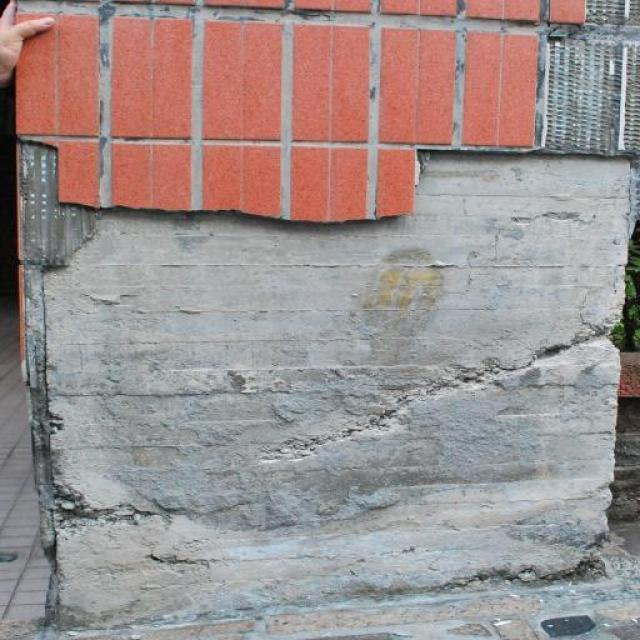D10: (19, 0, 639, 626)
